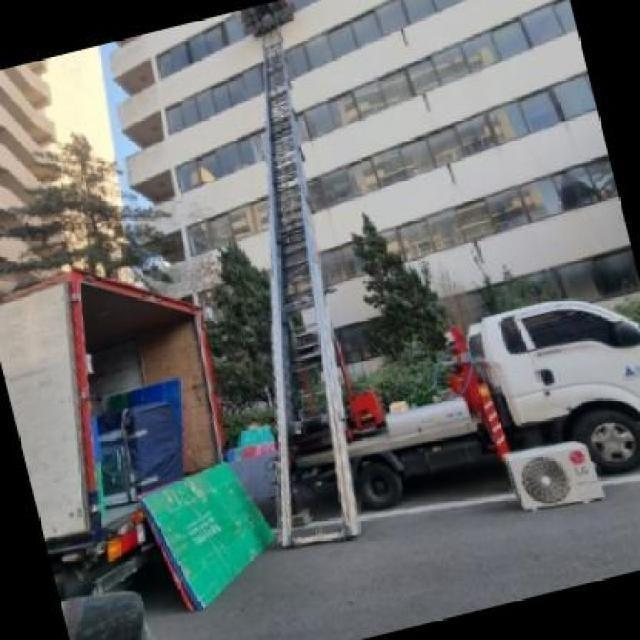box: (139, 461, 276, 613)
